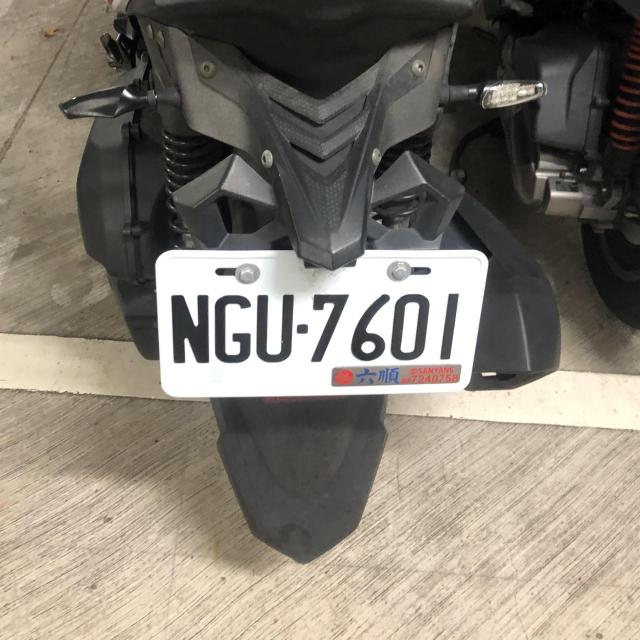W: (150, 242, 488, 403)
